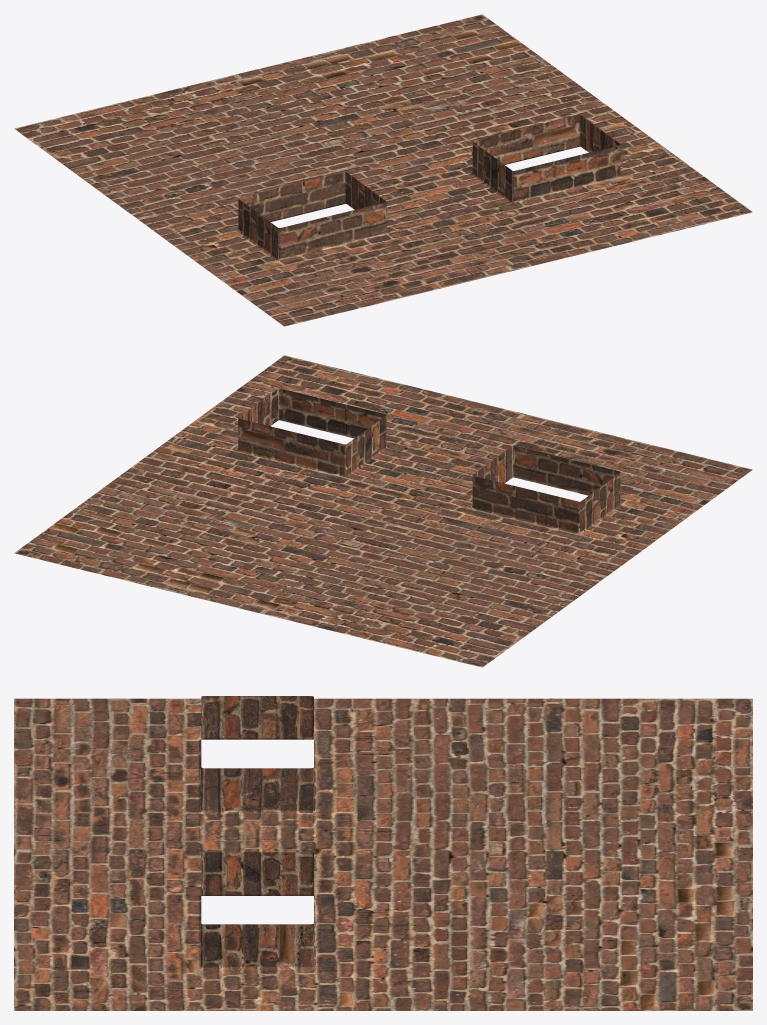
The model's file is wall_window_centered_double_04.gltf.
The picture shows the model from 3 angles, top to bottom: view 1: azimuth 30°, elevation 25°; view 2: azimuth 150°, elevation 25°; view 3: azimuth 270°, elevation 25°; orthographic projection. The views are drawn at different scales.
Parts seen in each view (by area): view 1: wall_window_centered_double_04; view 2: wall_window_centered_double_04; view 3: wall_window_centered_double_04.
Part boxes in pixels (box(x1,y1,x2,y2)): wall_window_centered_double_04: box(14, 14, 752, 326); wall_window_centered_double_04: box(14, 355, 752, 667); wall_window_centered_double_04: box(14, 696, 752, 1010).
Size of the model in its own units: 3 by 0.2 by 3.
Materials: 1 (1 with a texture image).
